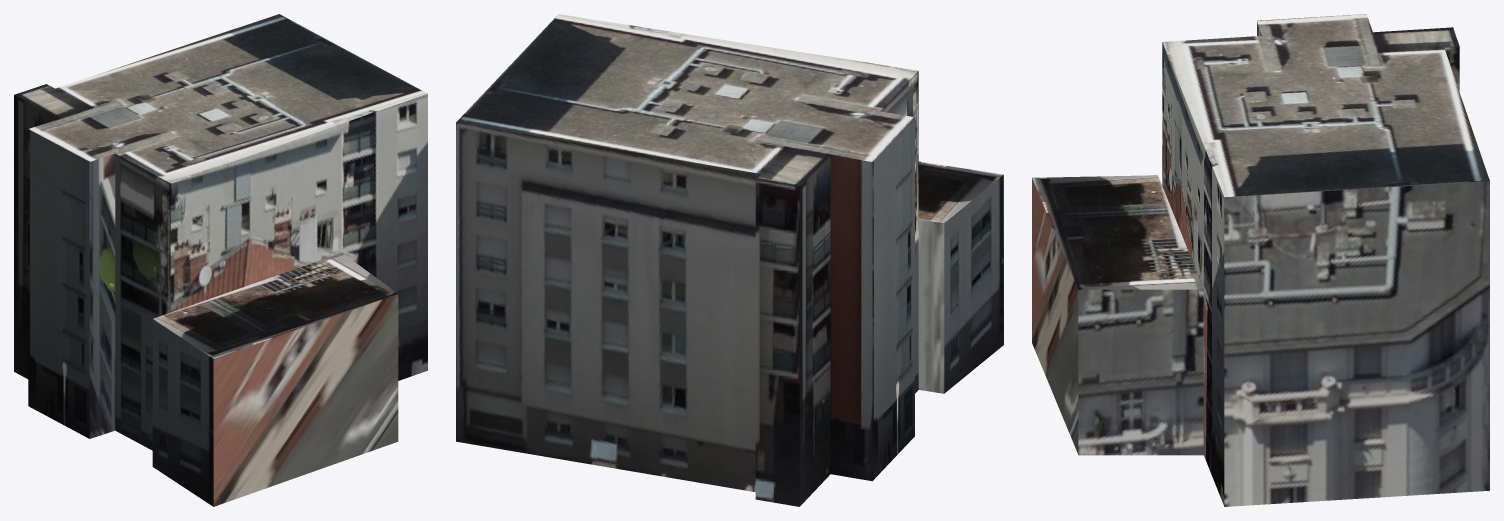
The picture shows the model from 3 angles, left to right: view 1: azimuth 30°, elevation 25°; view 2: azimuth 150°, elevation 25°; view 3: azimuth 270°, elevation 25°; orthographic projection. The views are drawn at different scales.
Visible parts, largest first — view 1: Z_UP; view 2: Z_UP; view 3: Z_UP.
Part boxes in pixels (x1,y1,x2,y2): Z_UP: (14, 14, 427, 506); Z_UP: (456, 14, 1003, 506); Z_UP: (1032, 14, 1489, 506).
Size of the model in its own units: 20.88 by 16.45 by 22.04.
Materials: 2 (1 with a texture image).
